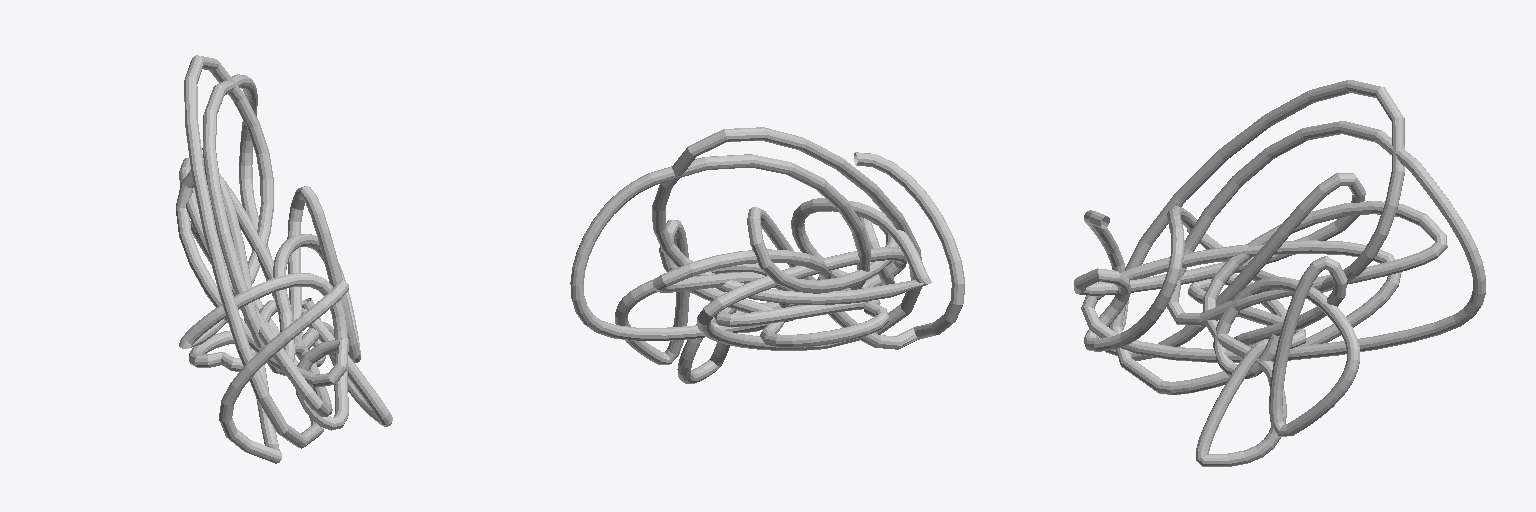
The model's file is knot.obj.
3 renders of one model, left to right at view 1: azimuth 30°, elevation 25°; view 2: azimuth 150°, elevation 25°; view 3: azimuth 270°, elevation 25°, orthographic.
Visible parts, largest first — view 1: NurbsPath_NurbsPath.001; view 2: NurbsPath_NurbsPath.001; view 3: NurbsPath_NurbsPath.001.
Part boxes in pixels (bbox=[...]): NurbsPath_NurbsPath.001: bbox=[176, 55, 392, 463]; NurbsPath_NurbsPath.001: bbox=[570, 127, 964, 383]; NurbsPath_NurbsPath.001: bbox=[1074, 80, 1485, 466].
Size of the model in its own units: 1.22 by 1.6 by 1.81.